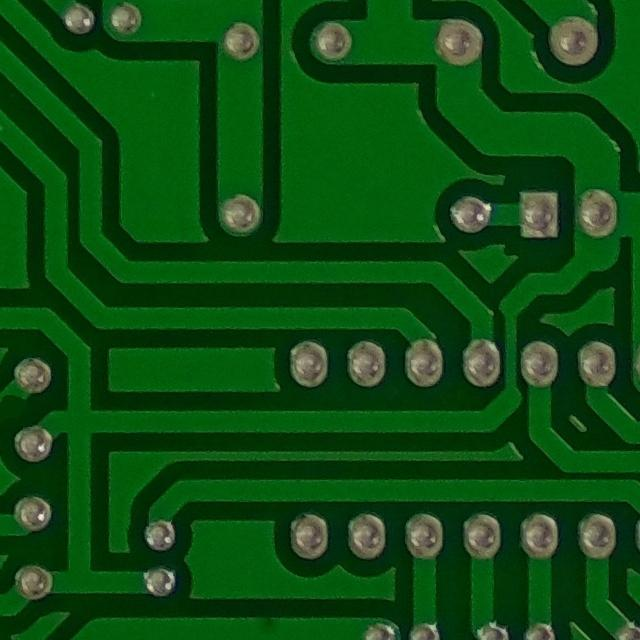mouse_bite: (0, 387, 30, 429)
